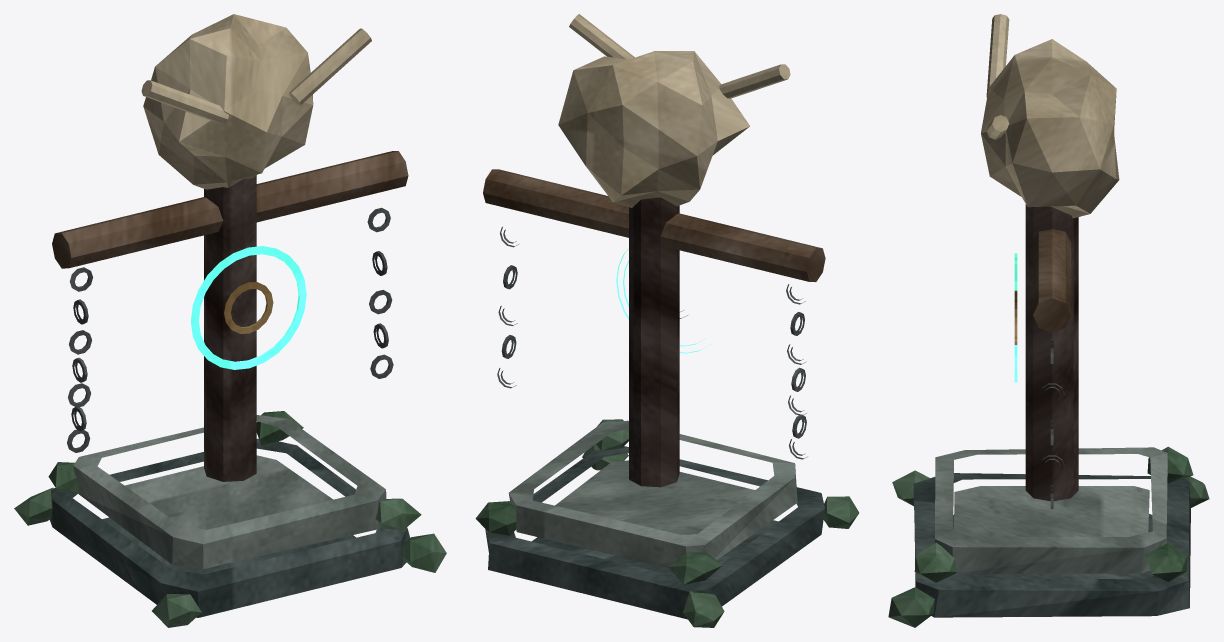
File: 0509_effigy_09.glb
The picture shows the model from 3 angles, left to right: view 1: azimuth 30°, elevation 25°; view 2: azimuth 150°, elevation 25°; view 3: azimuth 270°, elevation 25°; orthographic projection. The views are drawn at different scales.
Parts seen in each view (by area): view 1: bone, stone, stone_dark, wood_dark, wood, moss, iron, glow, brass; view 2: bone, stone, stone_dark, wood_dark, wood, moss, iron; view 3: stone, bone, stone_dark, wood_dark, moss, wood, iron.
Part boxes in pixels (x1=…): bone: x1=141, y1=14, x2=371, y2=189; stone: x1=73, y1=415, x2=386, y2=568; stone_dark: x1=49, y1=438, x2=410, y2=617; wood_dark: x1=204, y1=176, x2=256, y2=481; wood: x1=52, y1=151, x2=408, y2=268; moss: x1=14, y1=411, x2=446, y2=627; iron: x1=67, y1=207, x2=393, y2=452; glow: x1=191, y1=246, x2=306, y2=369; brass: x1=224, y1=282, x2=273, y2=333; bone: x1=558, y1=14, x2=790, y2=207; stone: x1=508, y1=420, x2=797, y2=568; stone_dark: x1=485, y1=446, x2=824, y2=619; wood_dark: x1=629, y1=197, x2=679, y2=487; wood: x1=483, y1=169, x2=825, y2=282; moss: x1=475, y1=419, x2=859, y2=627; iron: x1=497, y1=227, x2=807, y2=459; stone: x1=934, y1=447, x2=1167, y2=573; bone: x1=981, y1=14, x2=1119, y2=218; stone_dark: x1=913, y1=473, x2=1190, y2=617; wood_dark: x1=1025, y1=204, x2=1078, y2=501; moss: x1=888, y1=446, x2=1209, y2=627; wood: x1=1033, y1=229, x2=1071, y2=332; iron: x1=1039, y1=339, x2=1064, y2=509.
Bounding box in the file's own units: 2 × 2.94 × 1.69.
9 materials, 9 textured.
